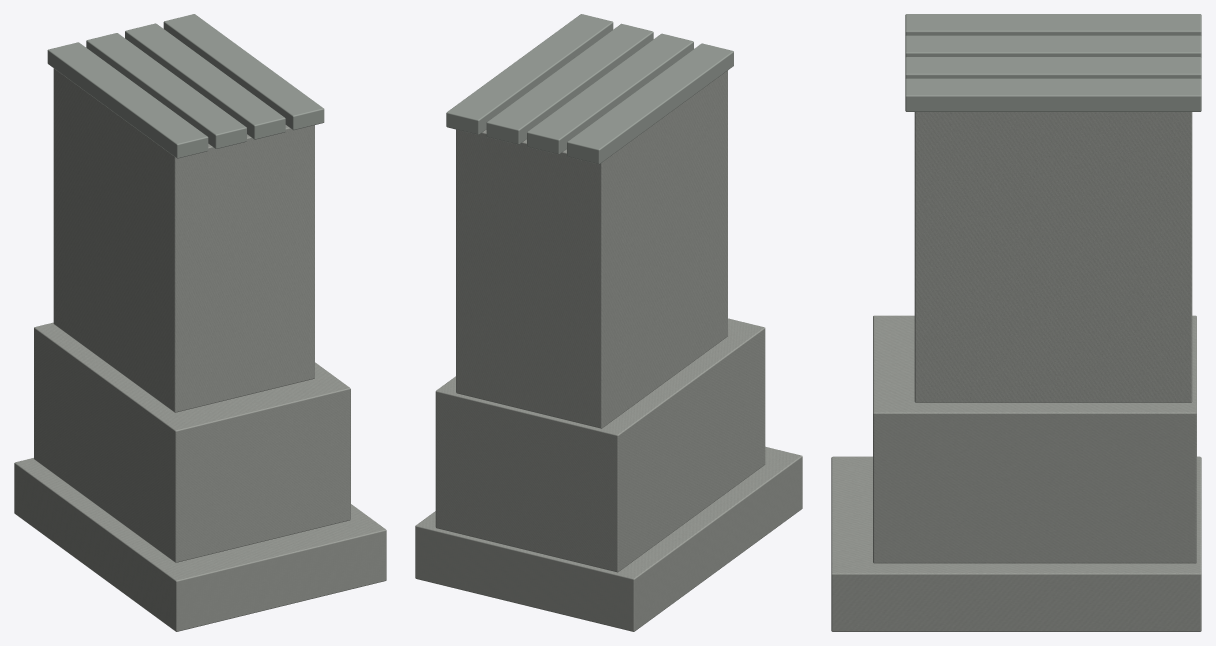
Rendered from hydroelectric-dam-infiltration-abutment-0f22e844__29330.glb.
3 renders of one model, left to right at view 1: azimuth 30°, elevation 25°; view 2: azimuth 150°, elevation 25°; view 3: azimuth 270°, elevation 25°, orthographic. The views are drawn at different scales.
Visible parts, largest first — view 1: abutment; view 2: abutment; view 3: abutment.
Boxes of the visible parts, x1=… form: abutment: x1=14, y1=14, x2=386, y2=631; abutment: x1=415, y1=14, x2=802, y2=631; abutment: x1=831, y1=14, x2=1201, y2=631.
Size of the model in its own units: 3 by 6.2 by 4.
2 materials, 1 textured.
